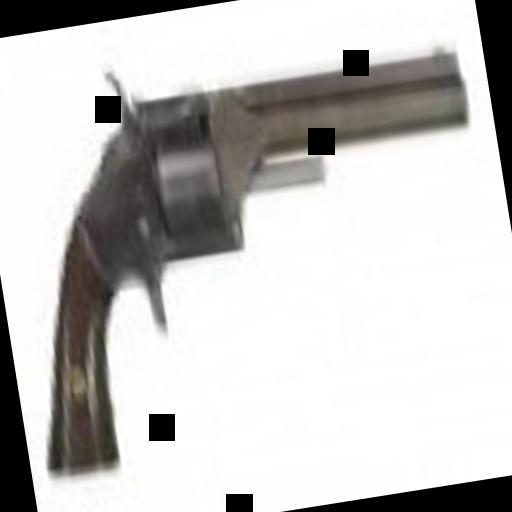Handgun: (0, 16, 512, 473)
